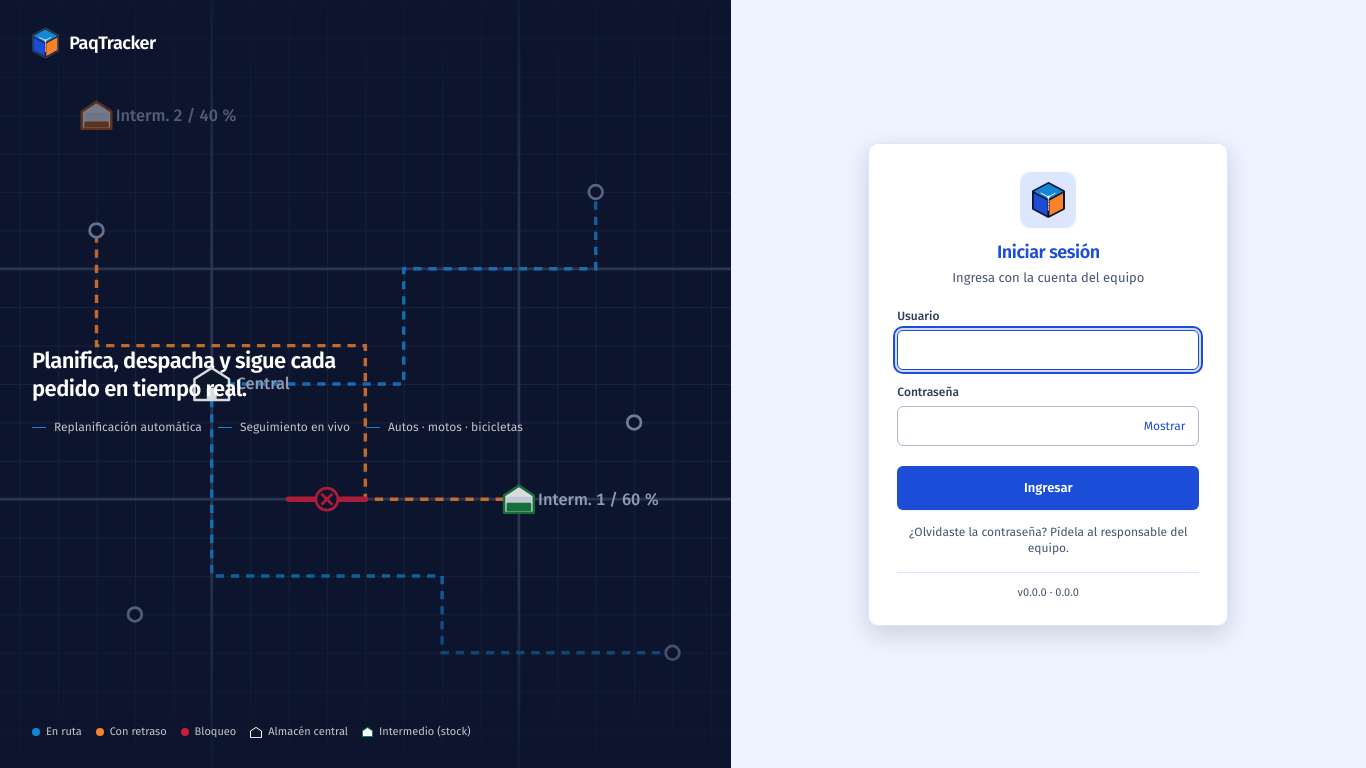
it: PuertaSesion › credenciales incorrectas muestran el error, vacían la clave y siguen en el login
The image size is (1366, 768).
Expected: the heading "Iniciar sesión" is shown, [997,240,1100,264]
Type "operaciones" into the field labelled "Usuario".
click(1048, 350); type("operaciones")  # box [897,330,1199,370]
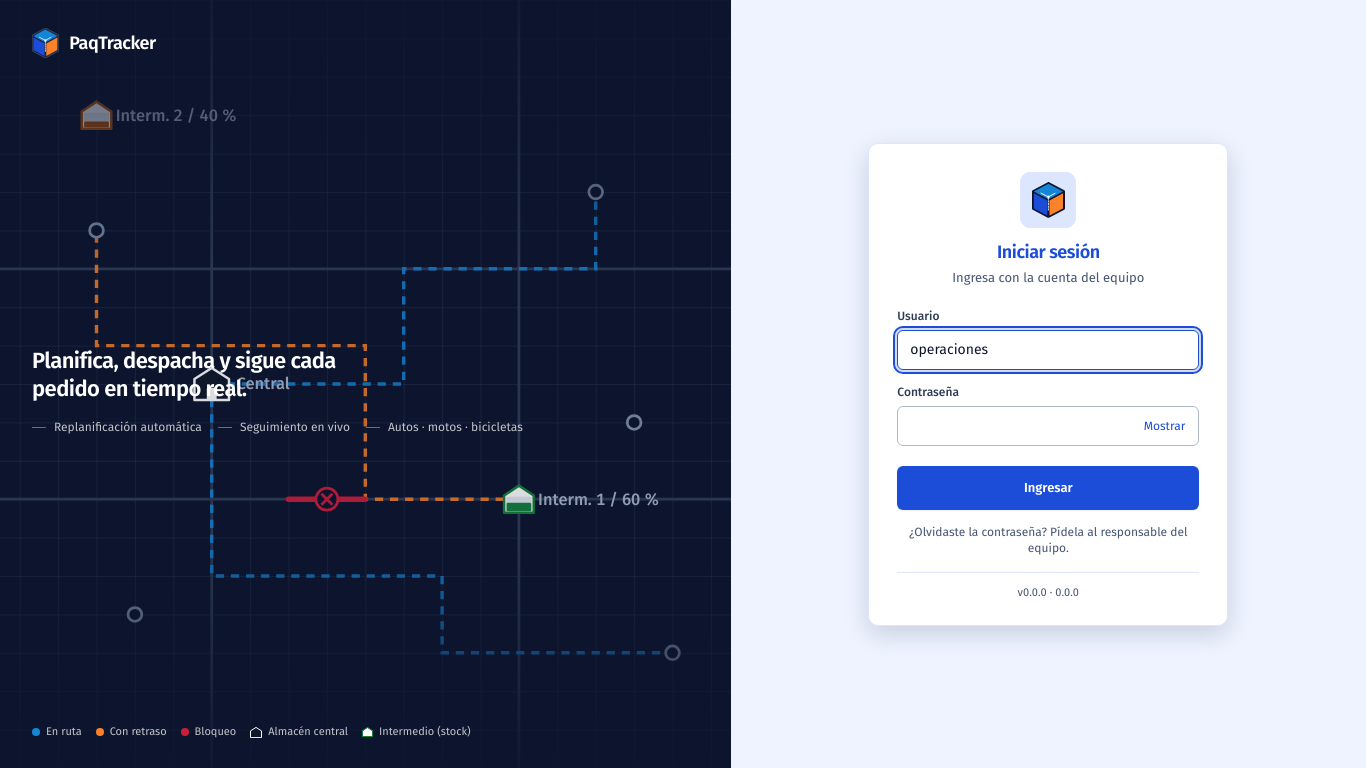
Type "mala" into the password field labelled "Contraseña".
click(1048, 426); type("mala")  # box [897,406,1199,446]
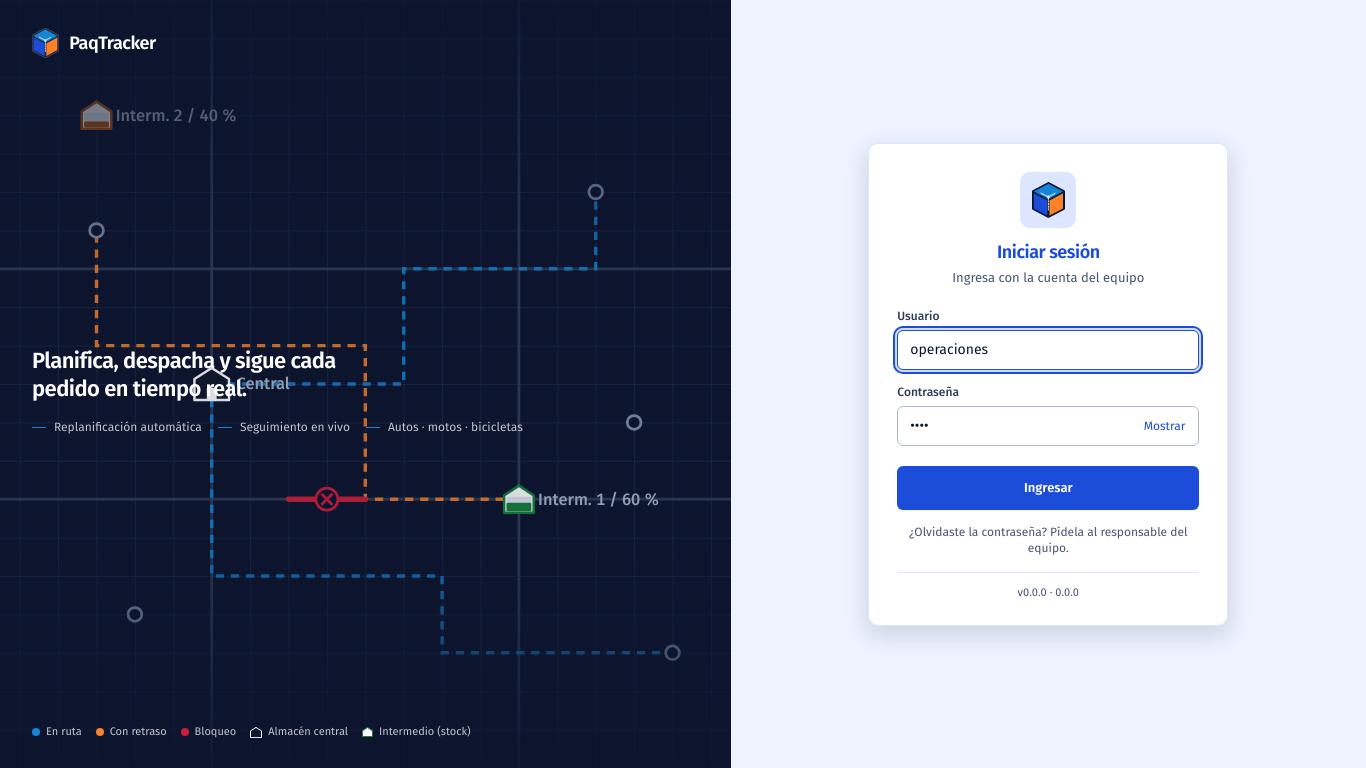
Click the button "Ingresar".
click(1048, 488)  # box [897,466,1199,510]
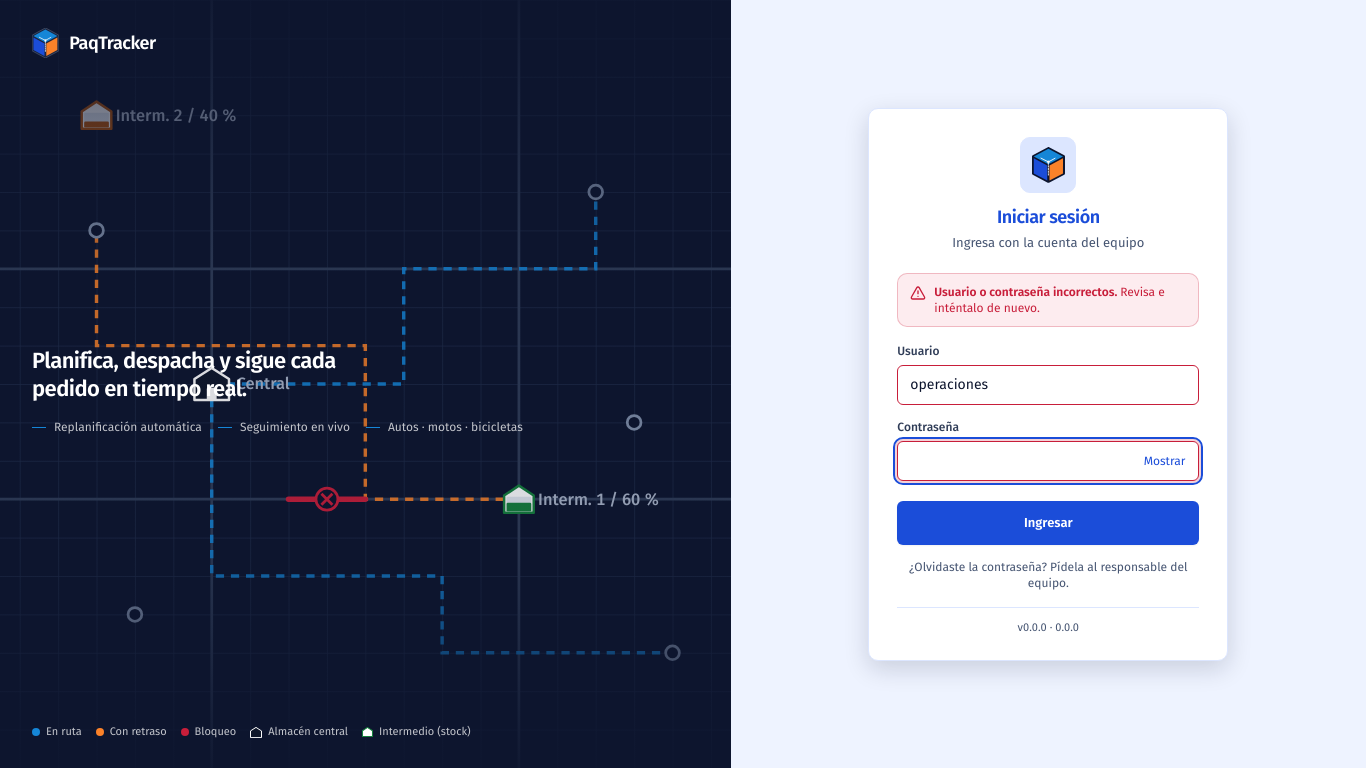
Expected: the password field labelled "Contraseña" is empty, [897,440,1199,480]
